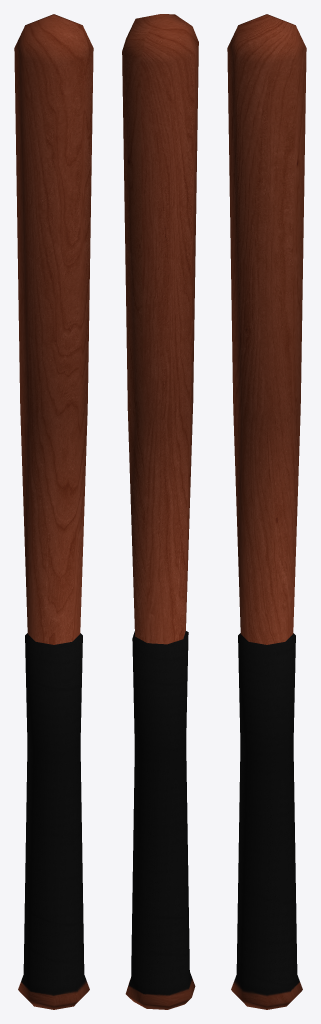
File: BBPB_bat.FBX
3 renders of one model, left to right at view 1: azimuth 90°, elevation 25°; view 2: azimuth 150°, elevation 25°; view 3: azimuth 270°, elevation 25°, orthographic.
Visible parts, largest first — view 1: baseball_bat; view 2: baseball_bat; view 3: baseball_bat.
Part boxes in pixels (<box>): baseball_bat: <box>14,14,93,1009</box>; baseball_bat: <box>122,14,198,1009</box>; baseball_bat: <box>227,14,306,1009</box>.
Bounding box in the file's own units: 6.24 × 85.71 × 6.24.
